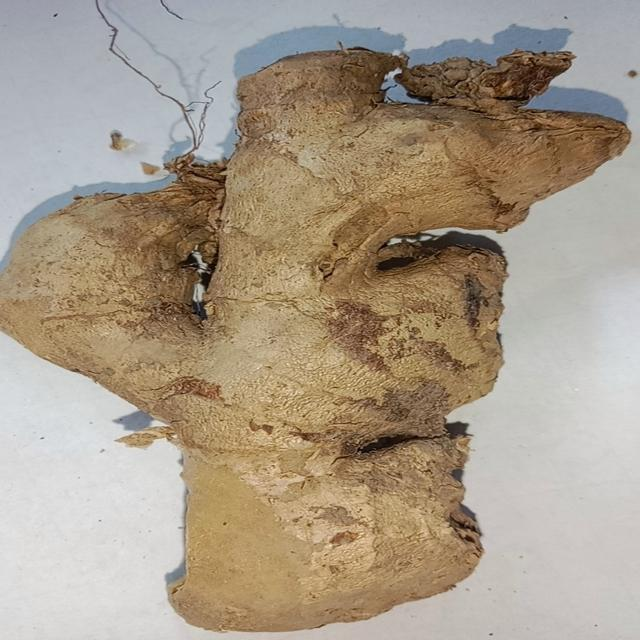ginger: (15, 36, 625, 616)
